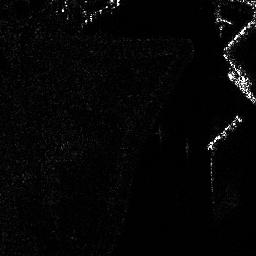ship: (207, 115, 241, 150), (226, 71, 256, 104)
